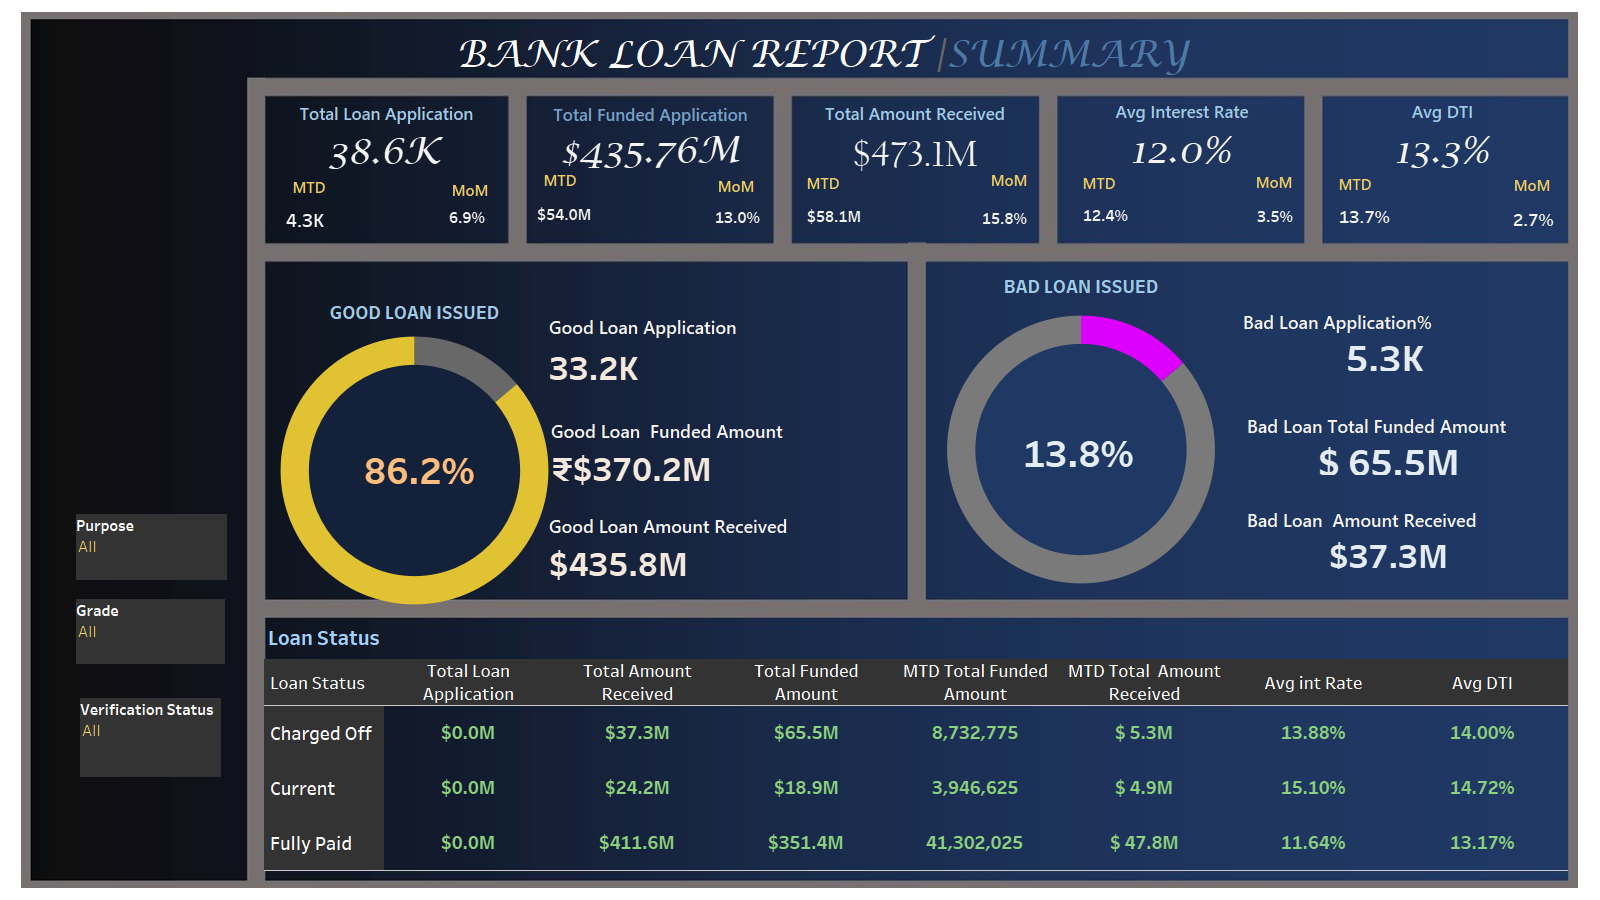

The page's visual inventory and layout, read from the dashboard file:
{"tool":"tableau","page":{"name":"SUMMARY","canvas":[1600,900],"ordinal":0},"visuals":[{"type":"image","param":"C:/Users/shrawani/Downloads/Tableau Background 1.jpg","box":[8,8,1584,884]},{"type":"text","box":[453,20,760,73]},{"type":"worksheet","title":"Avg Interest Rate","mark":"Automatic","box":[1058,94,248,80]},{"type":"worksheet","title":"Avg DTI","mark":"Automatic","box":[1320,94,245,80]},{"type":"worksheet","title":"Total Loan Application","mark":"Automatic","box":[266,96,241,78]},{"type":"worksheet","title":"Total Amount Received","mark":"Automatic","box":[791,96,248,79]},{"type":"worksheet","title":"Total Funded Application","mark":"Automatic","box":[526,97,249,73]},{"type":"text","box":[531,160,58,39]},{"type":"text","box":[980,160,58,39]},{"type":"text","box":[1245,162,58,39]},{"type":"text","box":[794,163,58,39]},{"type":"text","box":[1070,163,58,39]},{"type":"text","box":[1326,164,58,39]},{"type":"text","box":[1503,165,58,39]},{"type":"text","box":[707,166,58,39]},{"type":"text","box":[280,167,58,39]},{"type":"text","box":[441,170,58,39]},{"type":"worksheet","title":"MTD Avg INT Rate","mark":"Automatic","box":[1056,189,99,54]},{"type":"worksheet","title":"MTD Total Amount Received","mark":"Automatic","box":[791,190,88,54]},{"type":"worksheet","title":"MoM Loan Application","mark":"Automatic","box":[428,192,78,51]},{"type":"worksheet","title":"MTD Total Funded Amount","mark":"Automatic","box":[530,193,67,44]},{"type":"worksheet","title":"MoM Avg Int Rate","mark":"Automatic","box":[1239,193,72,48]},{"type":"worksheet","title":"MoM Total Funded Amount","mark":"Automatic","box":[701,194,73,48]},{"type":"worksheet","title":"MTD Total Loan Application","mark":"Automatic","box":[264,195,83,50]},{"type":"worksheet","title":"MTD Avg DTI","mark":"Automatic","box":[1328,195,73,44]},{"type":"worksheet","title":"MoM Total Amount Received ","mark":"Automatic","box":[970,197,70,44]},{"type":"worksheet","title":"MoM Avg DTI","mark":"Automatic","box":[1507,200,54,40]},{"type":"worksheet","title":"Bad Loan Issued","mark":"Pie","rows":["Calculation_561824098028744747","Calculation_561824098028744747"],"box":[931,267,300,325]},{"type":"worksheet","title":"Good Loan Issued","mark":"Pie","rows":["Calculation_561824098028744747","Calculation_561824098028744747"],"box":[187,293,455,315]},{"type":"worksheet","title":"Bad Loan Application%","mark":"Automatic","box":[1235,300,300,75]},{"type":"worksheet","title":"Good Loan Application","mark":"Automatic","box":[541,305,354,85]},{"type":"worksheet","title":"Bad Loan Total Funded Amount","mark":"Automatic","box":[1239,404,300,75]},{"type":"worksheet","title":"Good Loan Application %","mark":"Automatic","box":[335,406,169,126]},{"type":"worksheet","title":"Good Loan  Funded Amount ","mark":"Automatic","box":[543,409,354,80]},{"type":"worksheet","title":"Bad Loan%","mark":"Automatic","box":[995,413,167,78]},{"type":"worksheet","title":"Good Loan Application%","mark":"Automatic","box":[360,444,129,64]},{"type":"worksheet","title":"Bad Loan  Amount Received","mark":"Automatic","box":[1239,498,300,75]},{"type":"worksheet","title":"Good Loan Amount Received","mark":"Automatic","box":[541,504,354,80]},{"type":"filter","title":"Good Loan Issued","param":"[federated.1aolrx907rdspy15mqhbq1anaya9].[none:purpose:nk]","box":[76,514,151,66]},{"type":"filter","title":"Good Loan Issued","param":"[federated.1aolrx907rdspy15mqhbq1anaya9].[none:grade:nk]","box":[76,599,149,65]},{"type":"worksheet","title":"Loan Status","mark":"Automatic","rows":["loan_status"],"box":[264,617,1304,254]},{"type":"filter","title":"Good Loan Issued","param":"[federated.1aolrx907rdspy15mqhbq1anaya9].[none:verification_status:nk]","box":[80,698,141,79]}]}

Visuals, with their boxes in screenshot pixels (x1, y1, x2, y2), scaled from the page's 1600x900 canvas onto the 1600x900 screenshot:
image: 8,8,1592,892
text: 453,20,1213,93
"Avg Interest Rate" worksheet: 1058,94,1306,174
"Avg DTI" worksheet: 1320,94,1565,174
"Total Loan Application" worksheet: 266,96,507,174
"Total Amount Received" worksheet: 791,96,1039,175
"Total Funded Application" worksheet: 526,97,775,170
text: 531,160,589,199
text: 980,160,1038,199
text: 1245,162,1303,201
text: 794,163,852,202
text: 1070,163,1128,202
text: 1326,164,1384,203
text: 1503,165,1561,204
text: 707,166,765,205
text: 280,167,338,206
text: 441,170,499,209
"MTD Avg INT Rate" worksheet: 1056,189,1155,243
"MTD Total Amount Received" worksheet: 791,190,879,244
"MoM Loan Application" worksheet: 428,192,506,243
"MTD Total Funded Amount" worksheet: 530,193,597,237
"MoM Avg Int Rate" worksheet: 1239,193,1311,241
"MoM Total Funded Amount" worksheet: 701,194,774,242
"MTD Total Loan Application" worksheet: 264,195,347,245
"MTD Avg DTI" worksheet: 1328,195,1401,239
"MoM Total Amount Received " worksheet: 970,197,1040,241
"MoM Avg DTI" worksheet: 1507,200,1561,240
"Bad Loan Issued" worksheet (Pie marks): 931,267,1231,592
"Good Loan Issued" worksheet (Pie marks): 187,293,642,608
"Bad Loan Application%" worksheet: 1235,300,1535,375
"Good Loan Application" worksheet: 541,305,895,390
"Bad Loan Total Funded Amount" worksheet: 1239,404,1539,479
"Good Loan Application %" worksheet: 335,406,504,532
"Good Loan  Funded Amount " worksheet: 543,409,897,489
"Bad Loan%" worksheet: 995,413,1162,491
"Good Loan Application%" worksheet: 360,444,489,508
"Bad Loan  Amount Received" worksheet: 1239,498,1539,573
"Good Loan Amount Received" worksheet: 541,504,895,584
"Good Loan Issued" filter: 76,514,227,580
"Good Loan Issued" filter: 76,599,225,664
"Loan Status" worksheet: 264,617,1568,871
"Good Loan Issued" filter: 80,698,221,777
